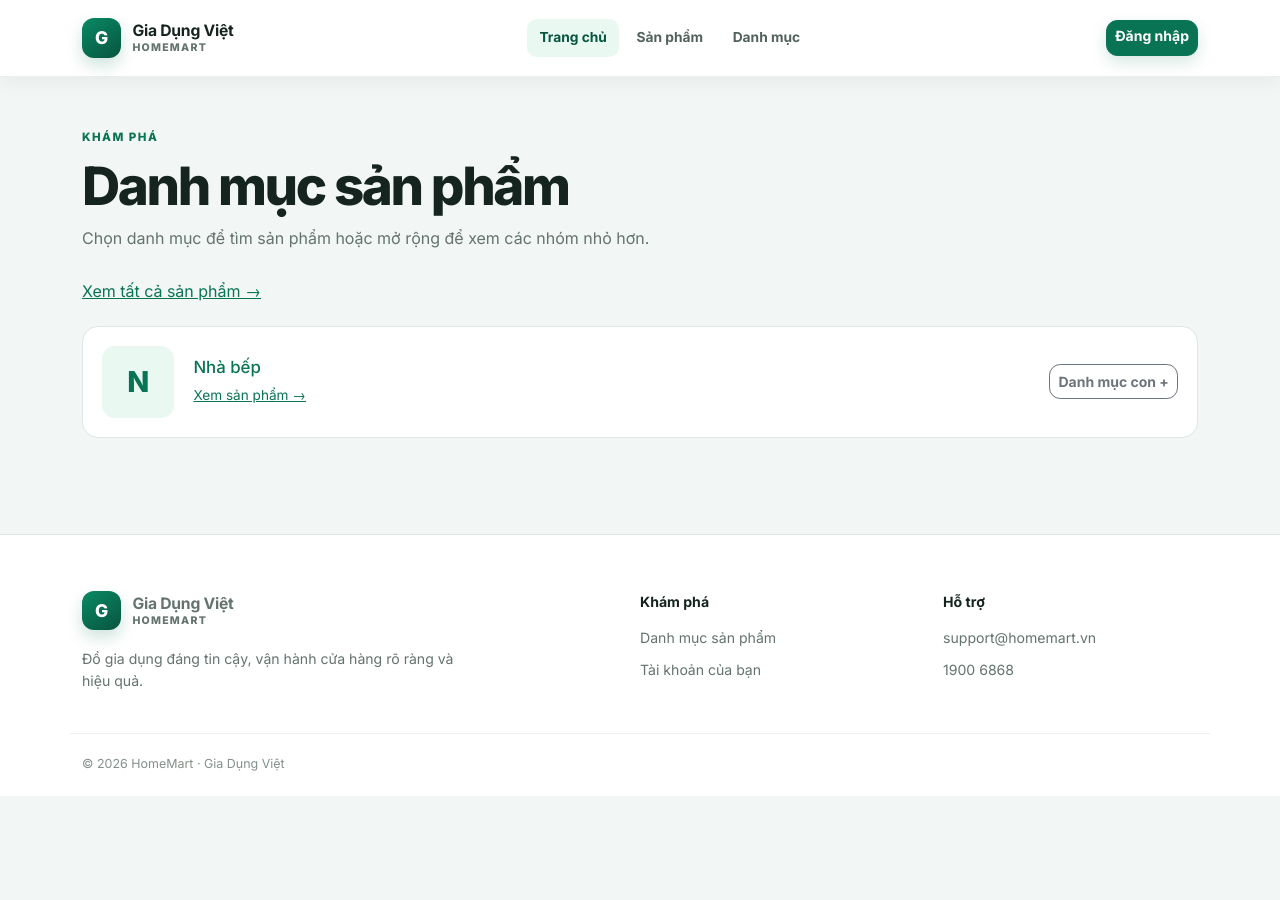
Test: allows retrying a failed child load
Step 1. Click the button with aria-label "Mở rộng Nhà bếp" → (1114, 382), box [1049,364,1178,400]
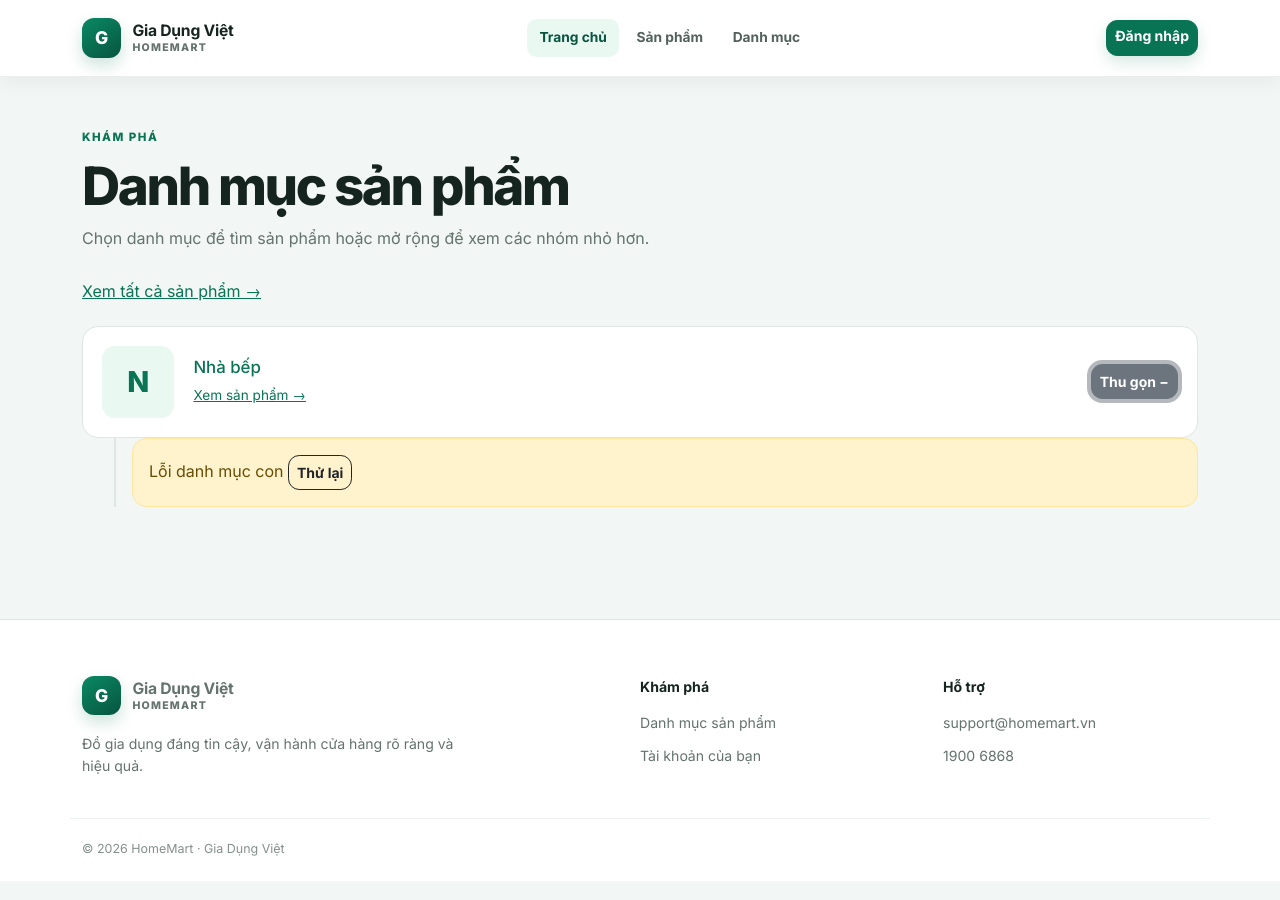
Check: the message "Lỗi danh mục con Thử lại" is shown, box [132,438,1198,507]
Step 2. Click the button "Thử lại" → (320, 473), box [288,455,352,490]
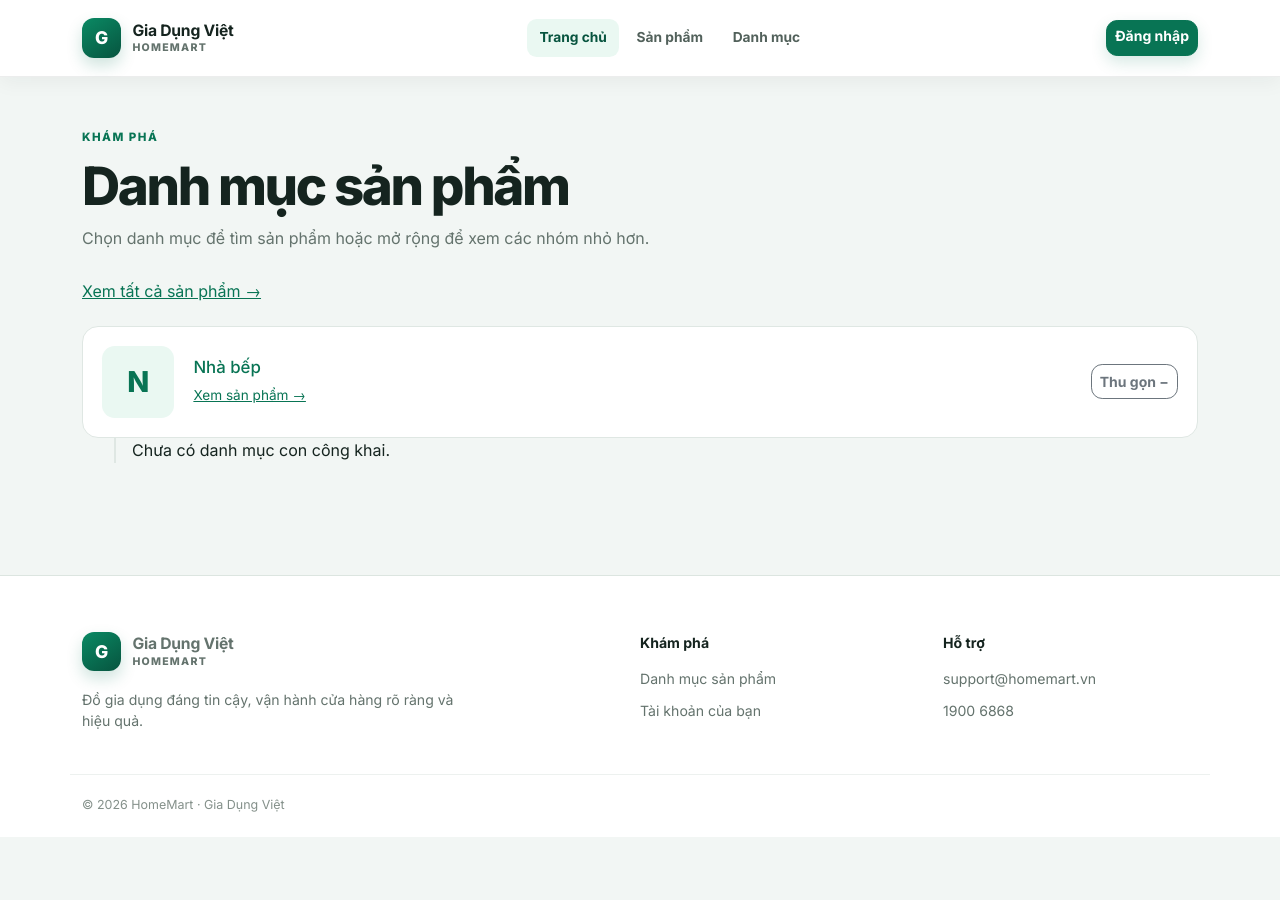
Check: the text "Chưa có danh mục con công khai." is shown, box [132,440,390,460]
